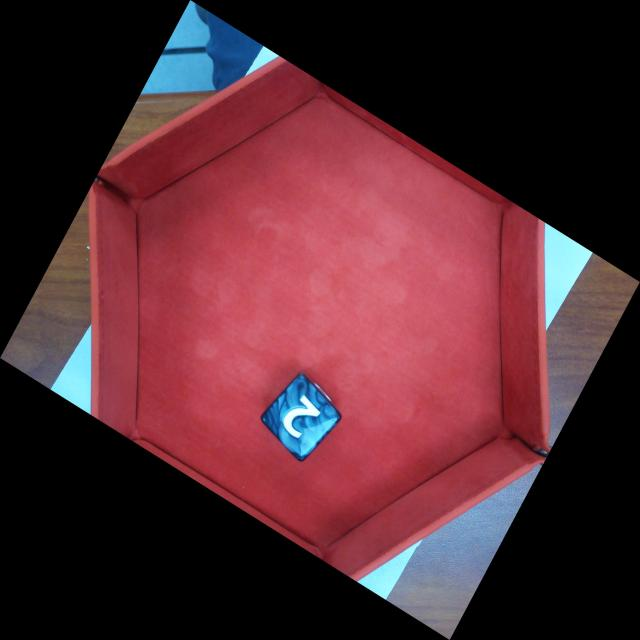dice: (258, 372, 344, 463)
